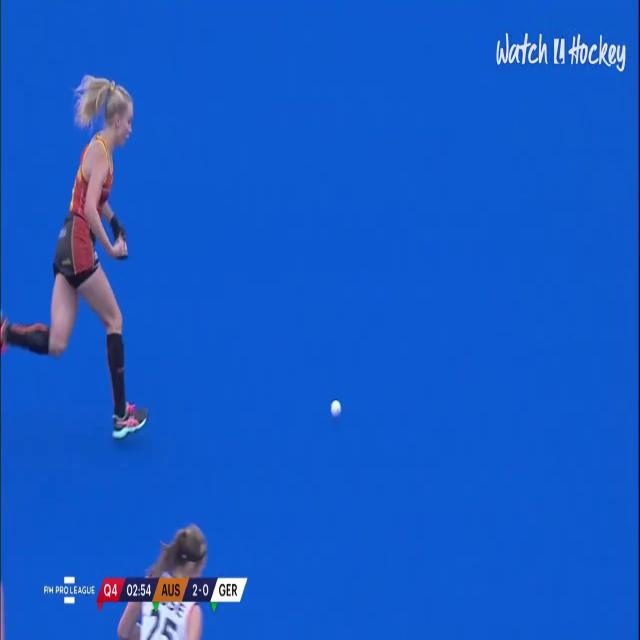ball: (319, 384, 353, 428)
